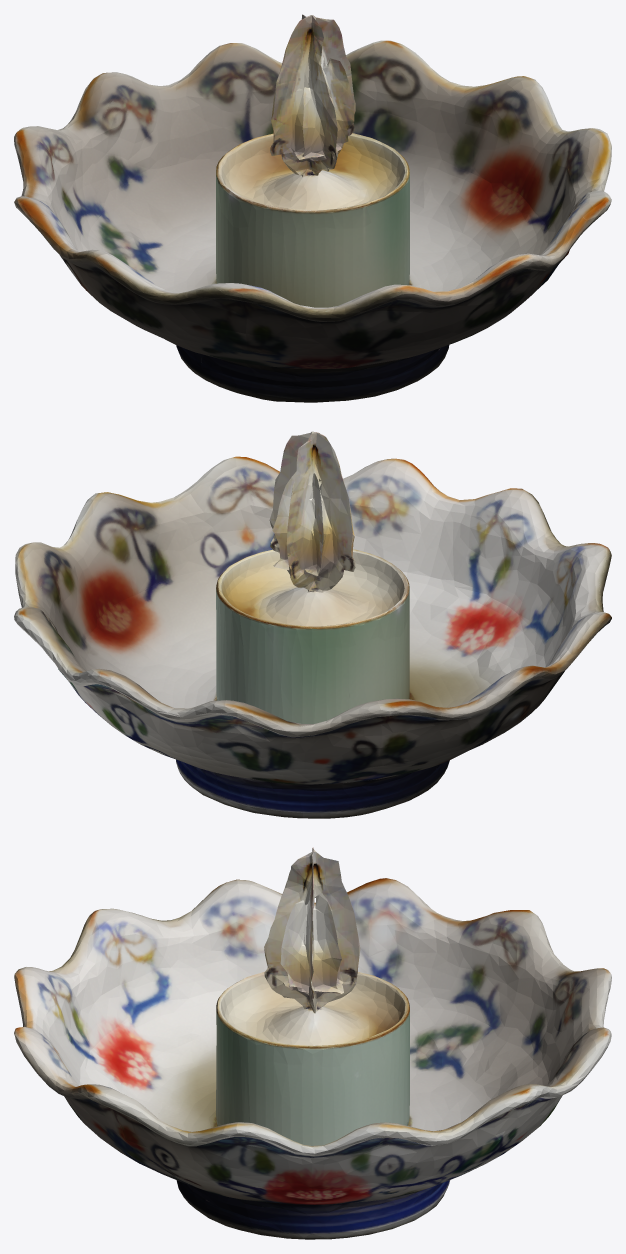
Rendered from porcelain-candle-stand-japanese.jpeg.glb.
The picture shows the model from 3 angles, top to bottom: view 1: azimuth 30°, elevation 25°; view 2: azimuth 150°, elevation 25°; view 3: azimuth 270°, elevation 25°; orthographic projection.
Parts seen in each view (by area): view 1: world; view 2: world; view 3: world.
Part boxes in pixels (x1,y1,x2,y2): world: (14, 14, 611, 402); world: (14, 431, 611, 818); world: (14, 847, 611, 1239).
Bounding box in the file's own units: 0.9985 × 0.6144 × 1.
1 material, 1 textured.
